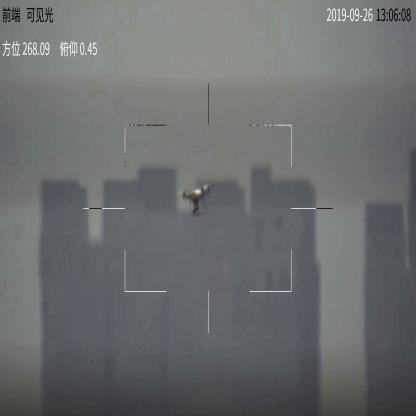uav: (170, 182, 208, 218)
